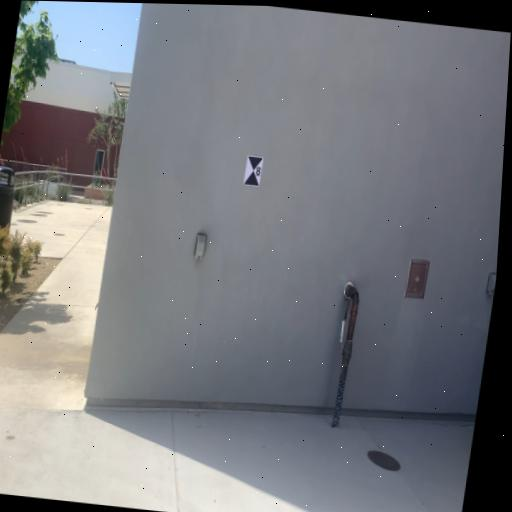target8: (243, 155, 265, 189)
